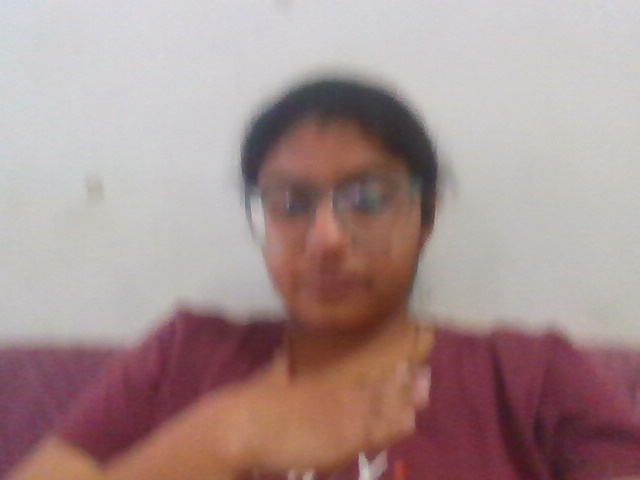Please: (122, 338, 430, 452)
